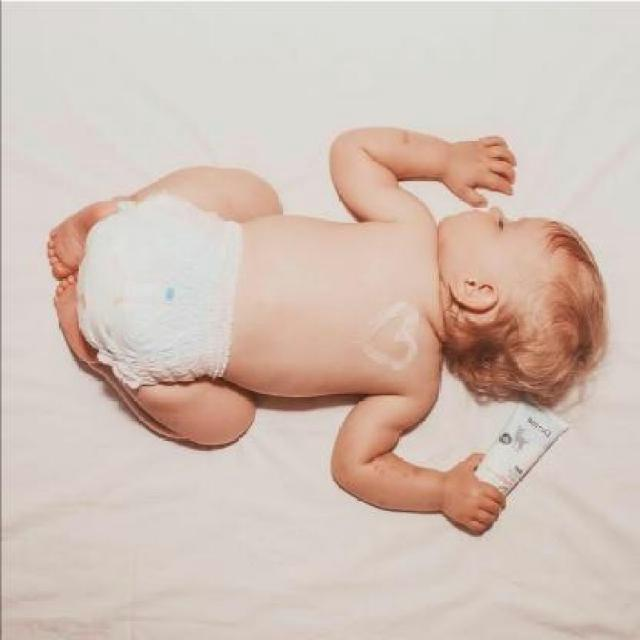child: (49, 125, 609, 533)
